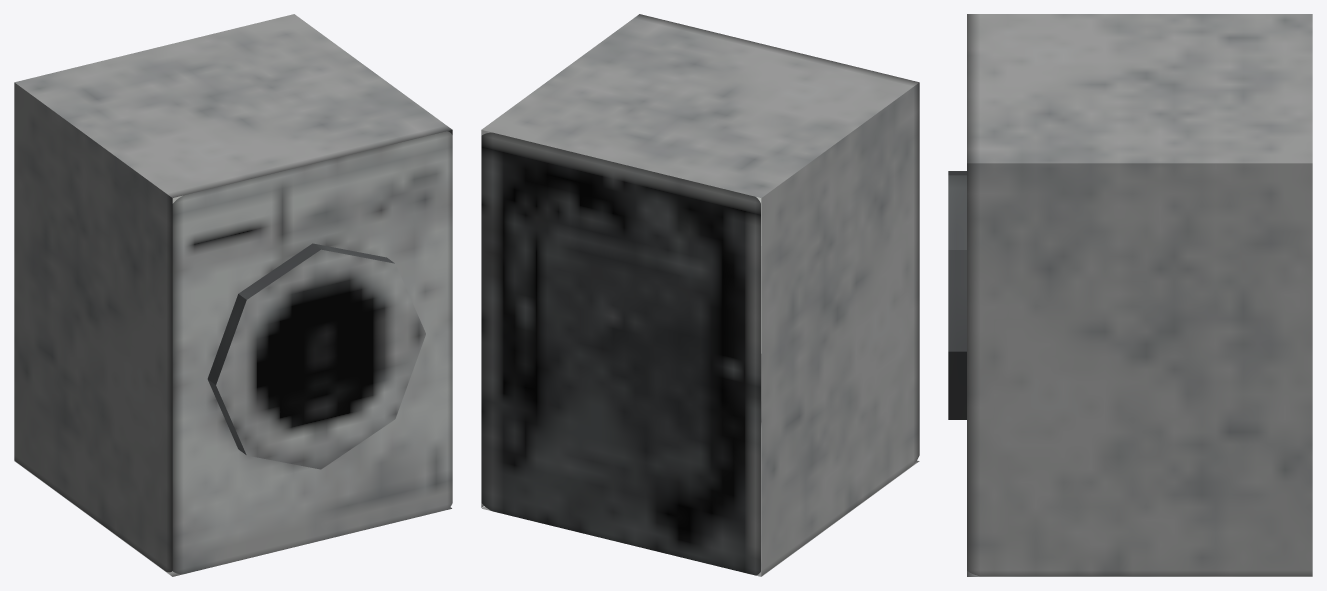
Rendered from SM_EC_WashingMachine_Complete_0.fbx.
3 renders of one model, left to right at view 1: azimuth 30°, elevation 25°; view 2: azimuth 150°, elevation 25°; view 3: azimuth 270°, elevation 25°, orthographic. The views are drawn at different scales.
Parts seen in each view (by area): view 1: SM_EC_WashingMachine_Complete_0, SM_EC_WashingMachine_Door_0; view 2: SM_EC_WashingMachine_Complete_0; view 3: SM_EC_WashingMachine_Complete_0, SM_EC_WashingMachine_Door_0.
Part boxes in pixels (x1,y1,x2,y2): SM_EC_WashingMachine_Complete_0: (14,14,452,576); SM_EC_WashingMachine_Door_0: (207,243,425,469); SM_EC_WashingMachine_Complete_0: (481,14,919,576); SM_EC_WashingMachine_Complete_0: (967,14,1312,576); SM_EC_WashingMachine_Door_0: (948,171,966,419).
Size of the model in its own units: 0.7975 by 0.8223 by 1.03.
